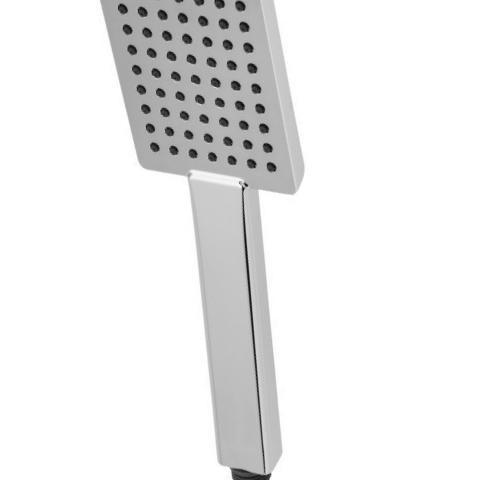Ducha: (80, 0, 315, 479)
